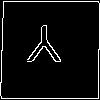Y: (25, 25, 63, 72)
